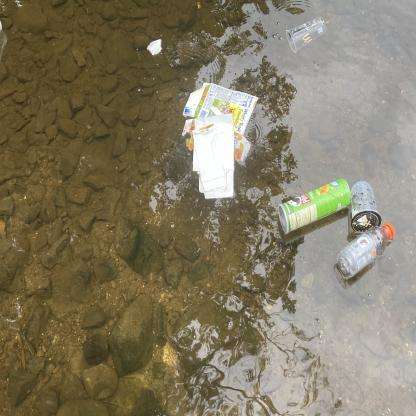trash: (178, 77, 264, 207), (271, 175, 358, 242), (331, 218, 400, 281), (346, 174, 385, 238), (280, 13, 329, 56), (146, 32, 164, 58)
